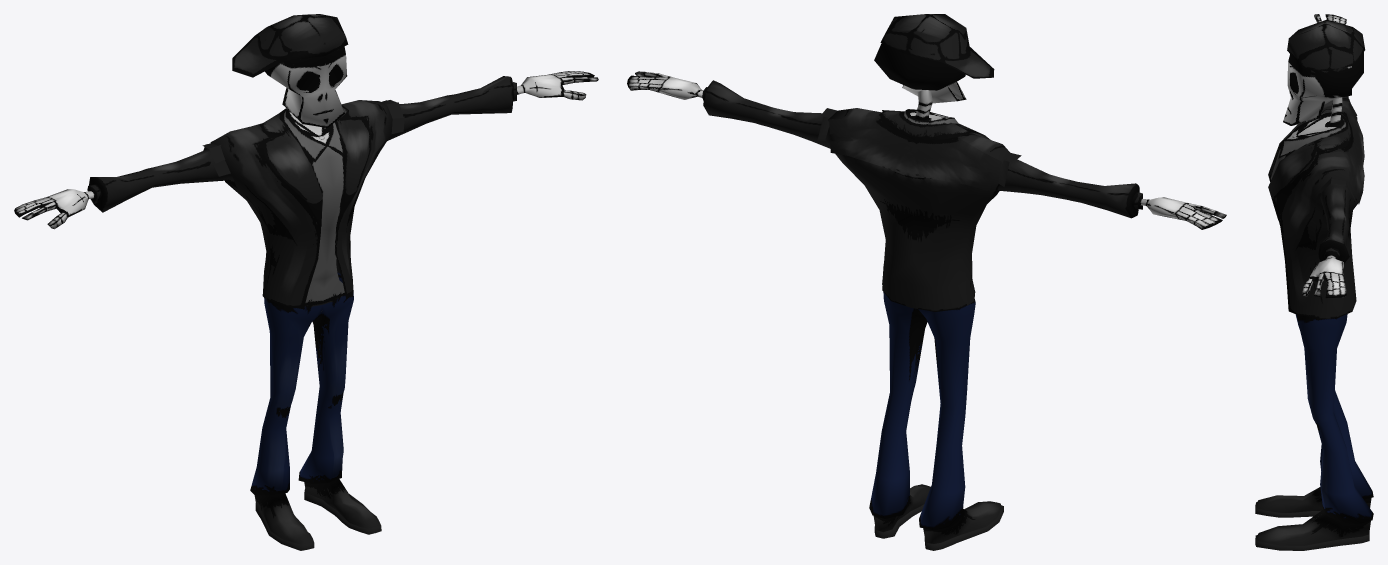
Rendered from vincent clavicle.fbx.
3 views of the same model, side by side, from view 1: azimuth 30°, elevation 25°; view 2: azimuth 150°, elevation 25°; view 3: azimuth 270°, elevation 25° (orthographic). The views are drawn at different scales.
Parts seen in each view (by area): view 1: Vincent Clavicle; view 2: Vincent Clavicle; view 3: Vincent Clavicle.
Part boxes in pixels (x1,y1,x2,y2): Vincent Clavicle: (14,14,598,550); Vincent Clavicle: (627,14,1226,550); Vincent Clavicle: (1255,14,1373,550).
Size of the model in its own units: 39.99 by 226 by 187.
Materials: 1 (1 with a texture image).
